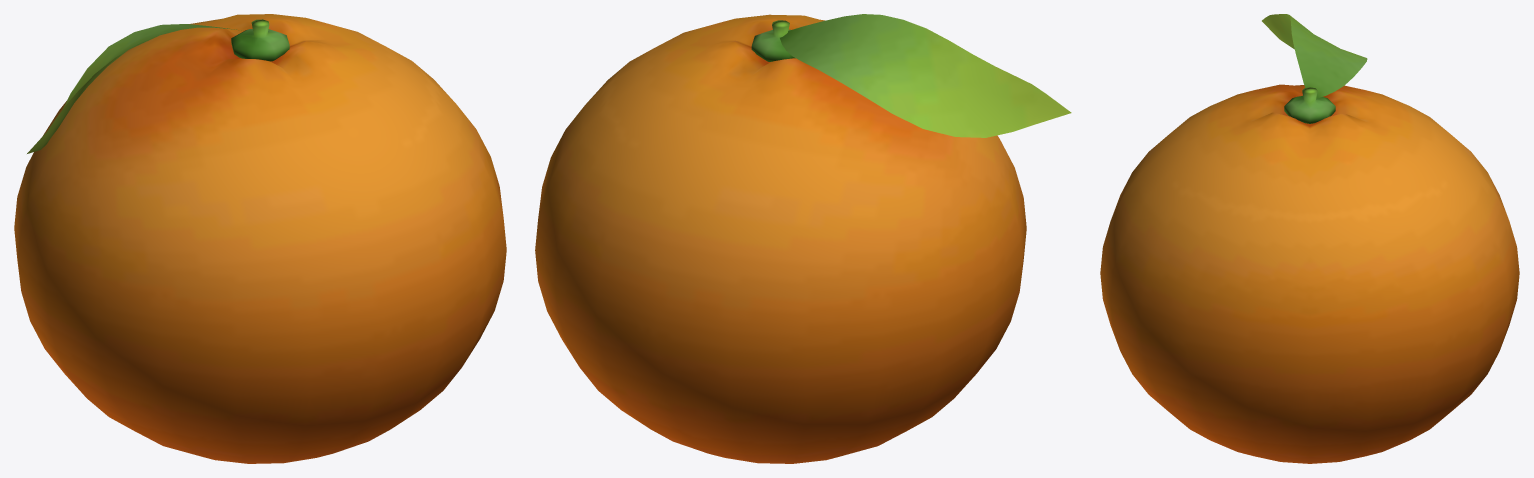
Rendered from orange.glb.
3 renders of one model, left to right at view 1: azimuth 30°, elevation 25°; view 2: azimuth 150°, elevation 25°; view 3: azimuth 270°, elevation 25°, orthographic. The views are drawn at different scales.
Parts seen in each view (by area): view 1: Orange; view 2: Orange; view 3: Orange.
Part boxes in pixels (box(x1,y1,x2,y2)): Orange: box(14, 14, 506, 463); Orange: box(535, 14, 1071, 463); Orange: box(1100, 14, 1519, 463).
Bounding box in the file's own units: 6.03 × 5.3 × 5.42.
1 material, 1 textured.
